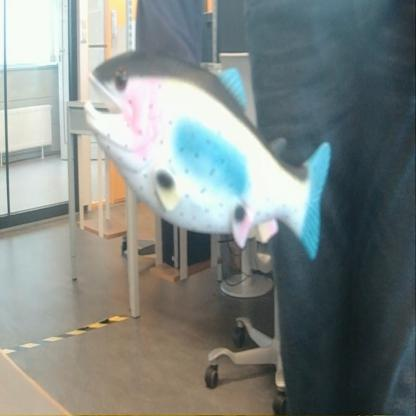rubberfish: (80, 41, 334, 269)
